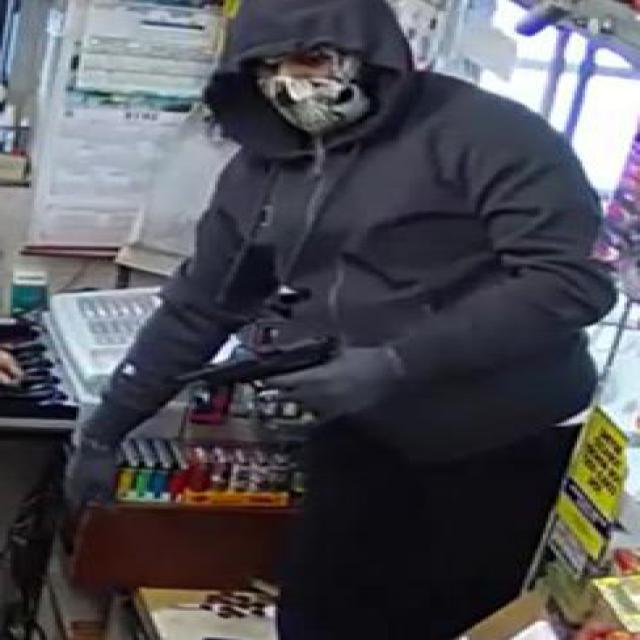Gun: (176, 334, 357, 422)
